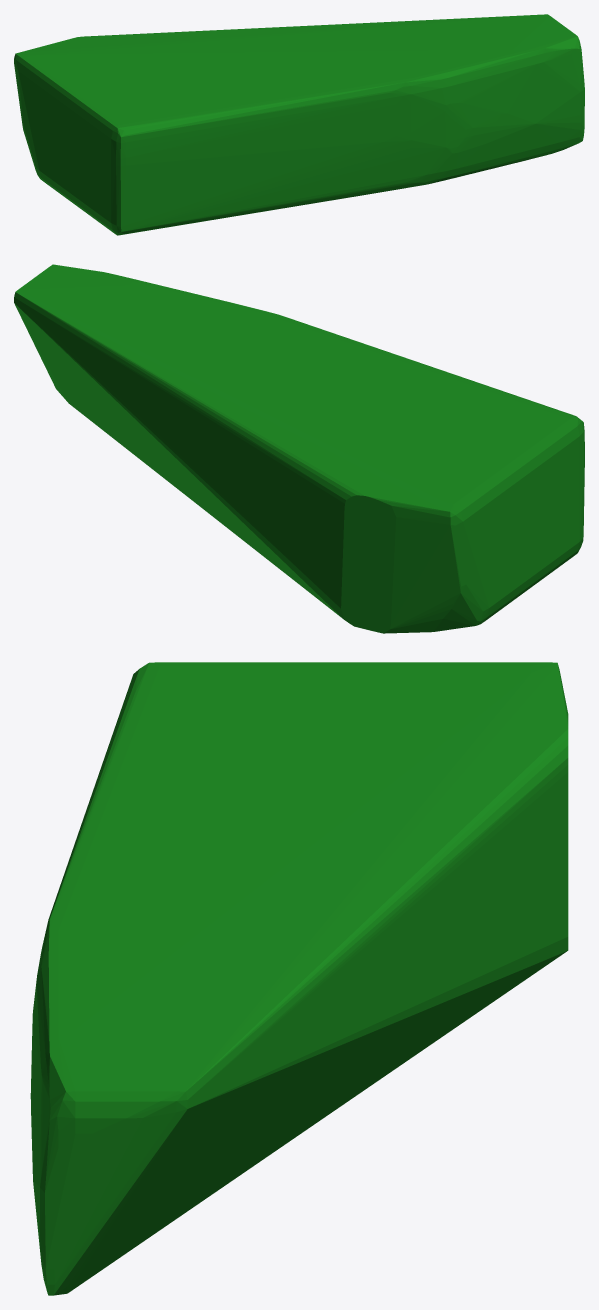
The model's file is left-shin-0_part_8.obj.
The picture shows the model from 3 angles, top to bottom: view 1: azimuth 30°, elevation 25°; view 2: azimuth 150°, elevation 25°; view 3: azimuth 270°, elevation 25°; orthographic projection. The views are drawn at different scales.
Size of the model in its own units: 0.1463 by 0.0338 by 0.0762.
